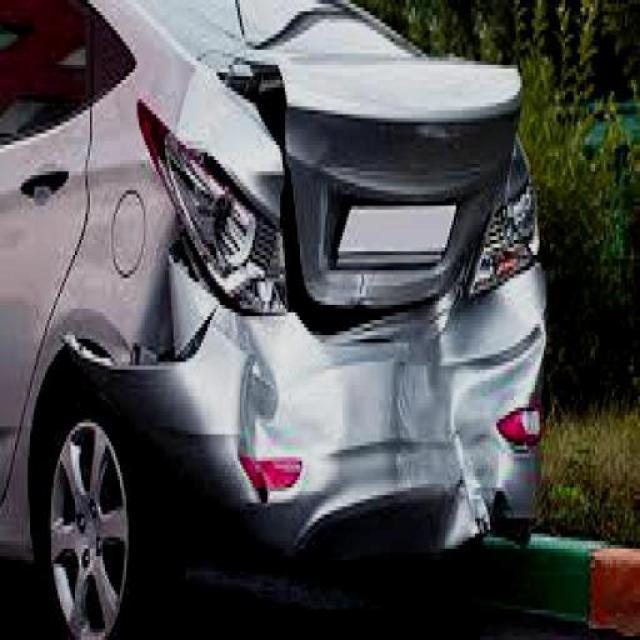car damage: (40, 40, 552, 551)
